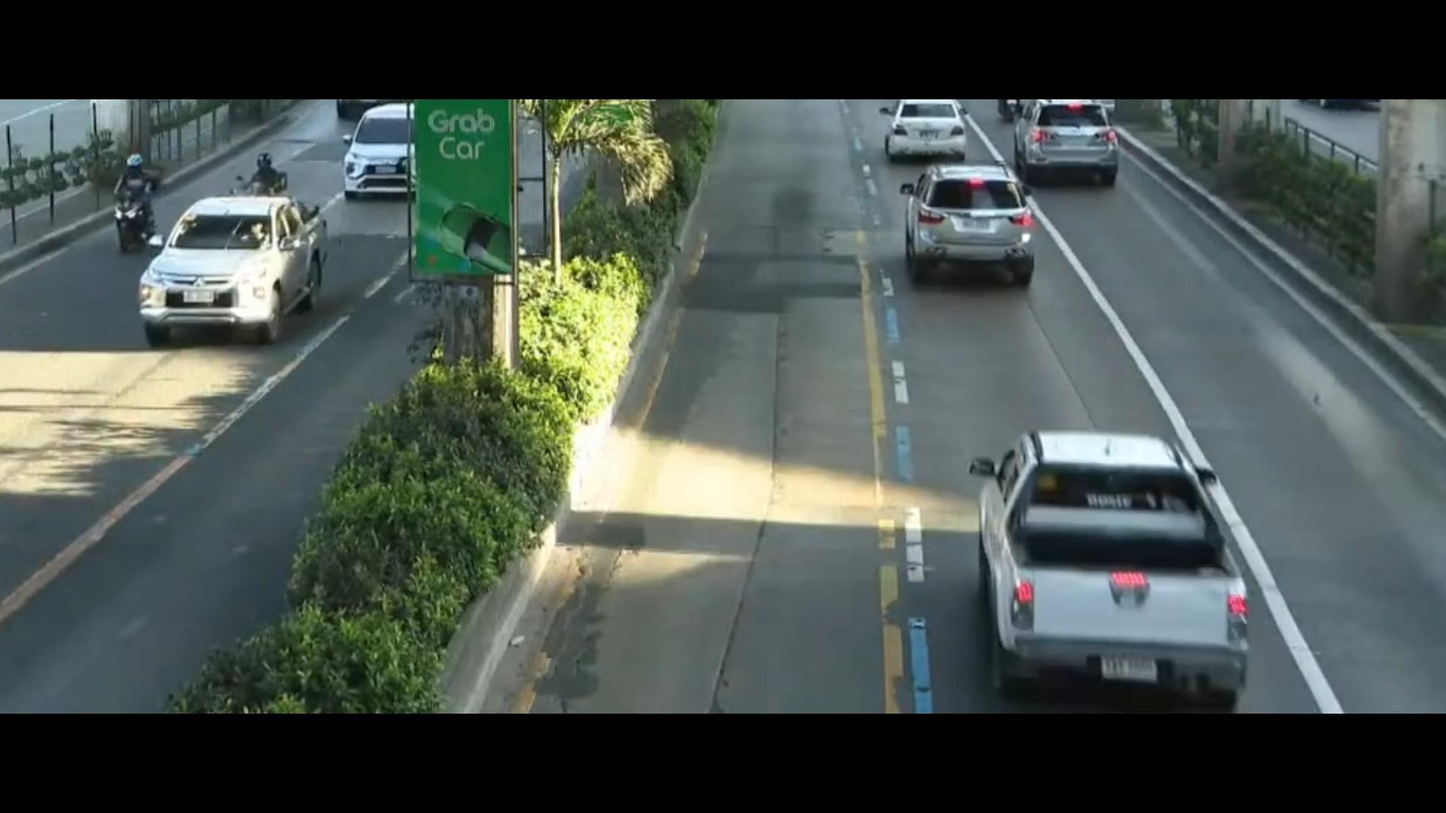Motorcycle: (104, 145, 168, 257), (241, 142, 302, 195)
Pickup: (940, 409, 1271, 706), (122, 190, 339, 356)
SUV: (893, 143, 1060, 323), (1009, 98, 1128, 183), (339, 107, 420, 209)
Sedan: (872, 89, 991, 159)
